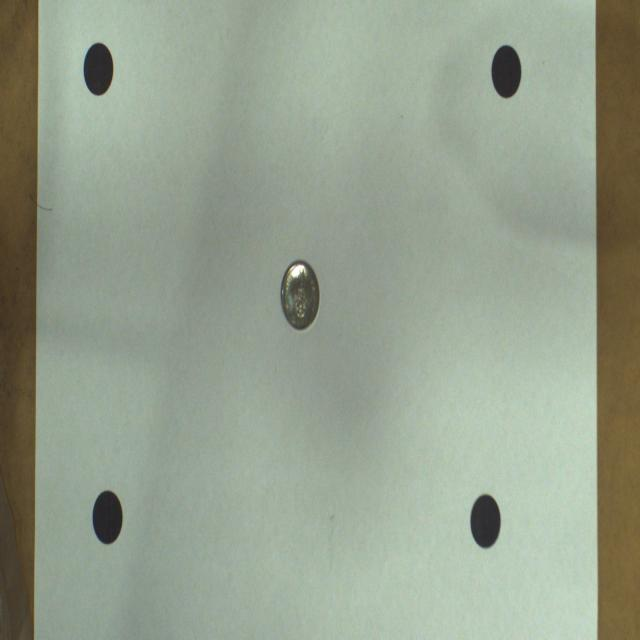space: (470, 493, 501, 549), (84, 42, 114, 96), (491, 44, 521, 98), (92, 491, 122, 544)
tail1bath: (281, 260, 320, 329)
